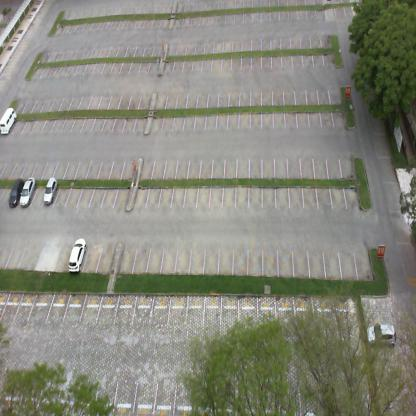car: (67, 237, 87, 275), (366, 324, 396, 346), (19, 175, 37, 207), (6, 176, 23, 209), (1, 106, 17, 134), (43, 177, 57, 207)
